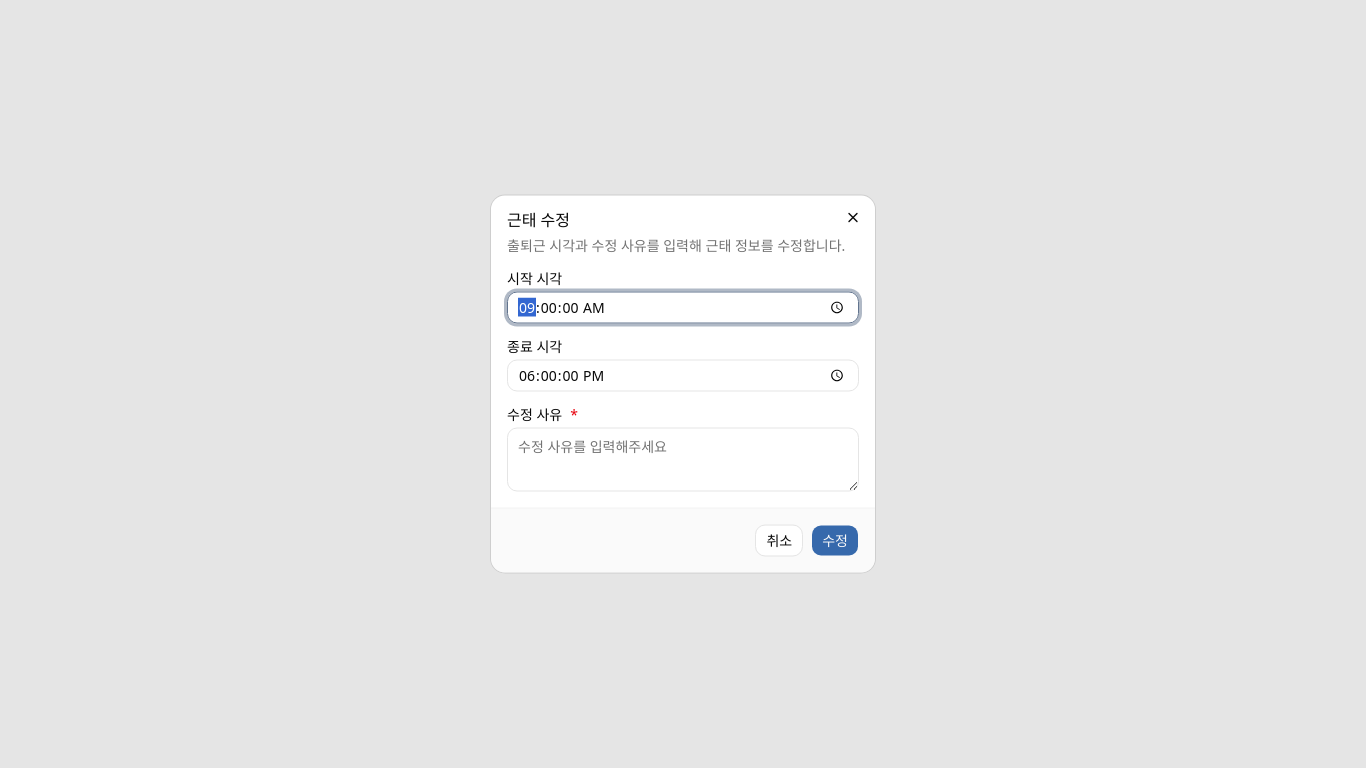
UpdateAttendanceDialog › 수정 사유를 비우고 제출하면 필수 입력 에러가 노출된다
Click the button "수정": (835, 540) left=811, top=524, right=859, bottom=556
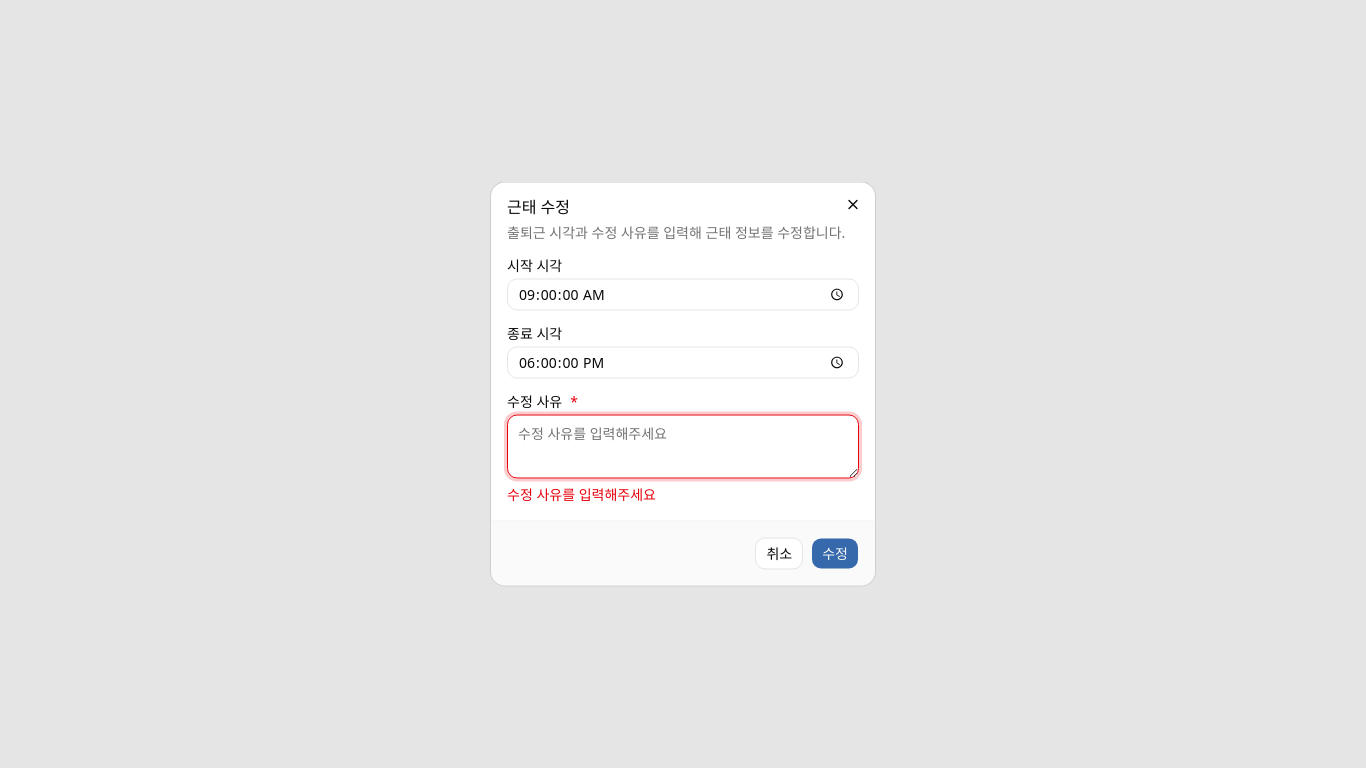
Now the text "수정 사유를 입력해주세요" is shown, box left=507, top=484, right=656, bottom=504
